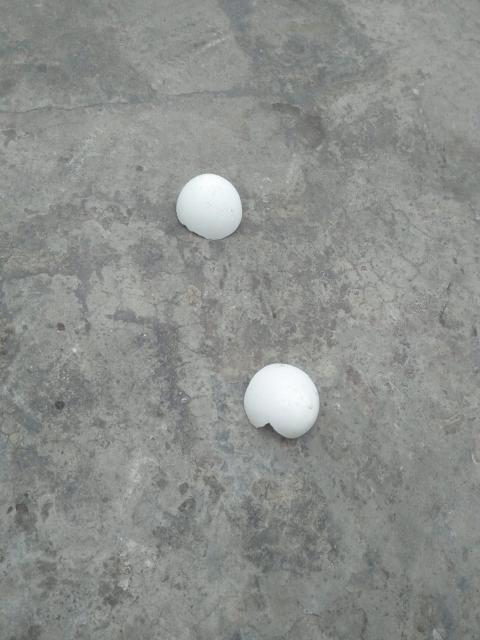Roto: (243, 362, 320, 439), (175, 172, 242, 240)
